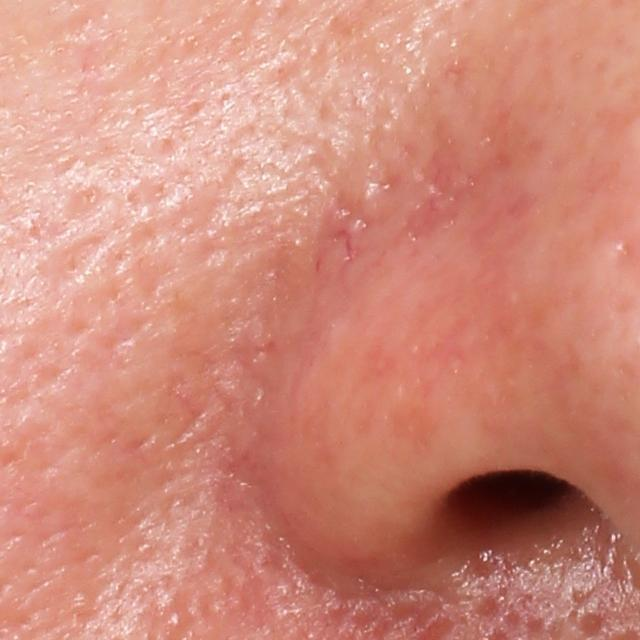atrophic_scar: (400, 101, 551, 244), (29, 236, 103, 300), (318, 193, 377, 267), (575, 609, 606, 640)
